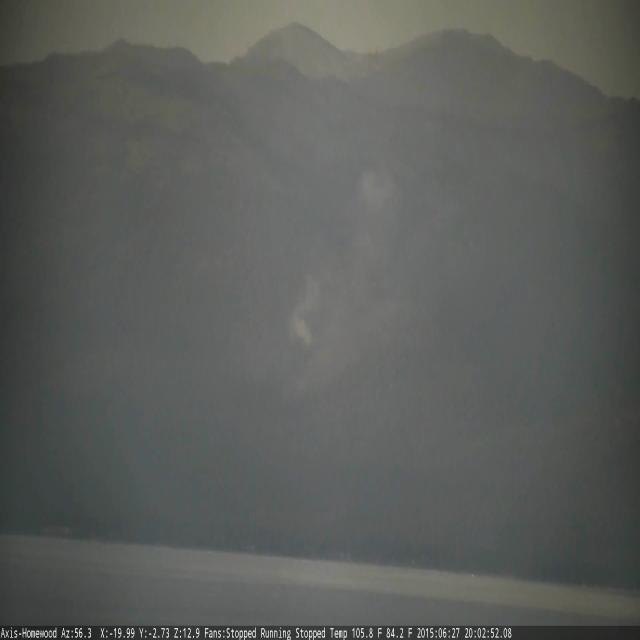smoke: (291, 274, 317, 348)
